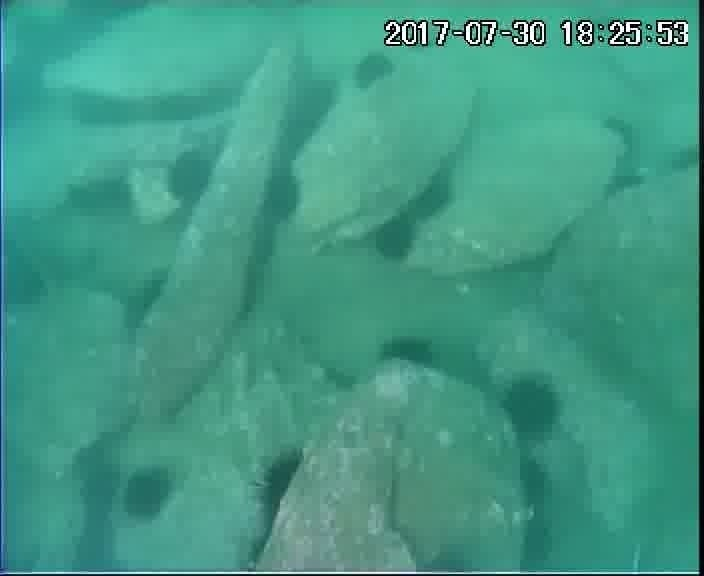echinus: (247, 448, 308, 558), (271, 79, 340, 168), (497, 373, 565, 444), (63, 170, 138, 223), (117, 463, 179, 527), (1, 244, 50, 319), (162, 147, 220, 210), (256, 165, 307, 229), (402, 174, 459, 228), (74, 457, 125, 516), (376, 331, 441, 376), (368, 213, 421, 266), (512, 454, 557, 514), (349, 49, 398, 95)
